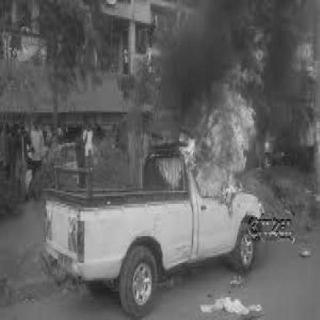Fire: (178, 44, 266, 208)
Smoke: (154, 4, 301, 134)
